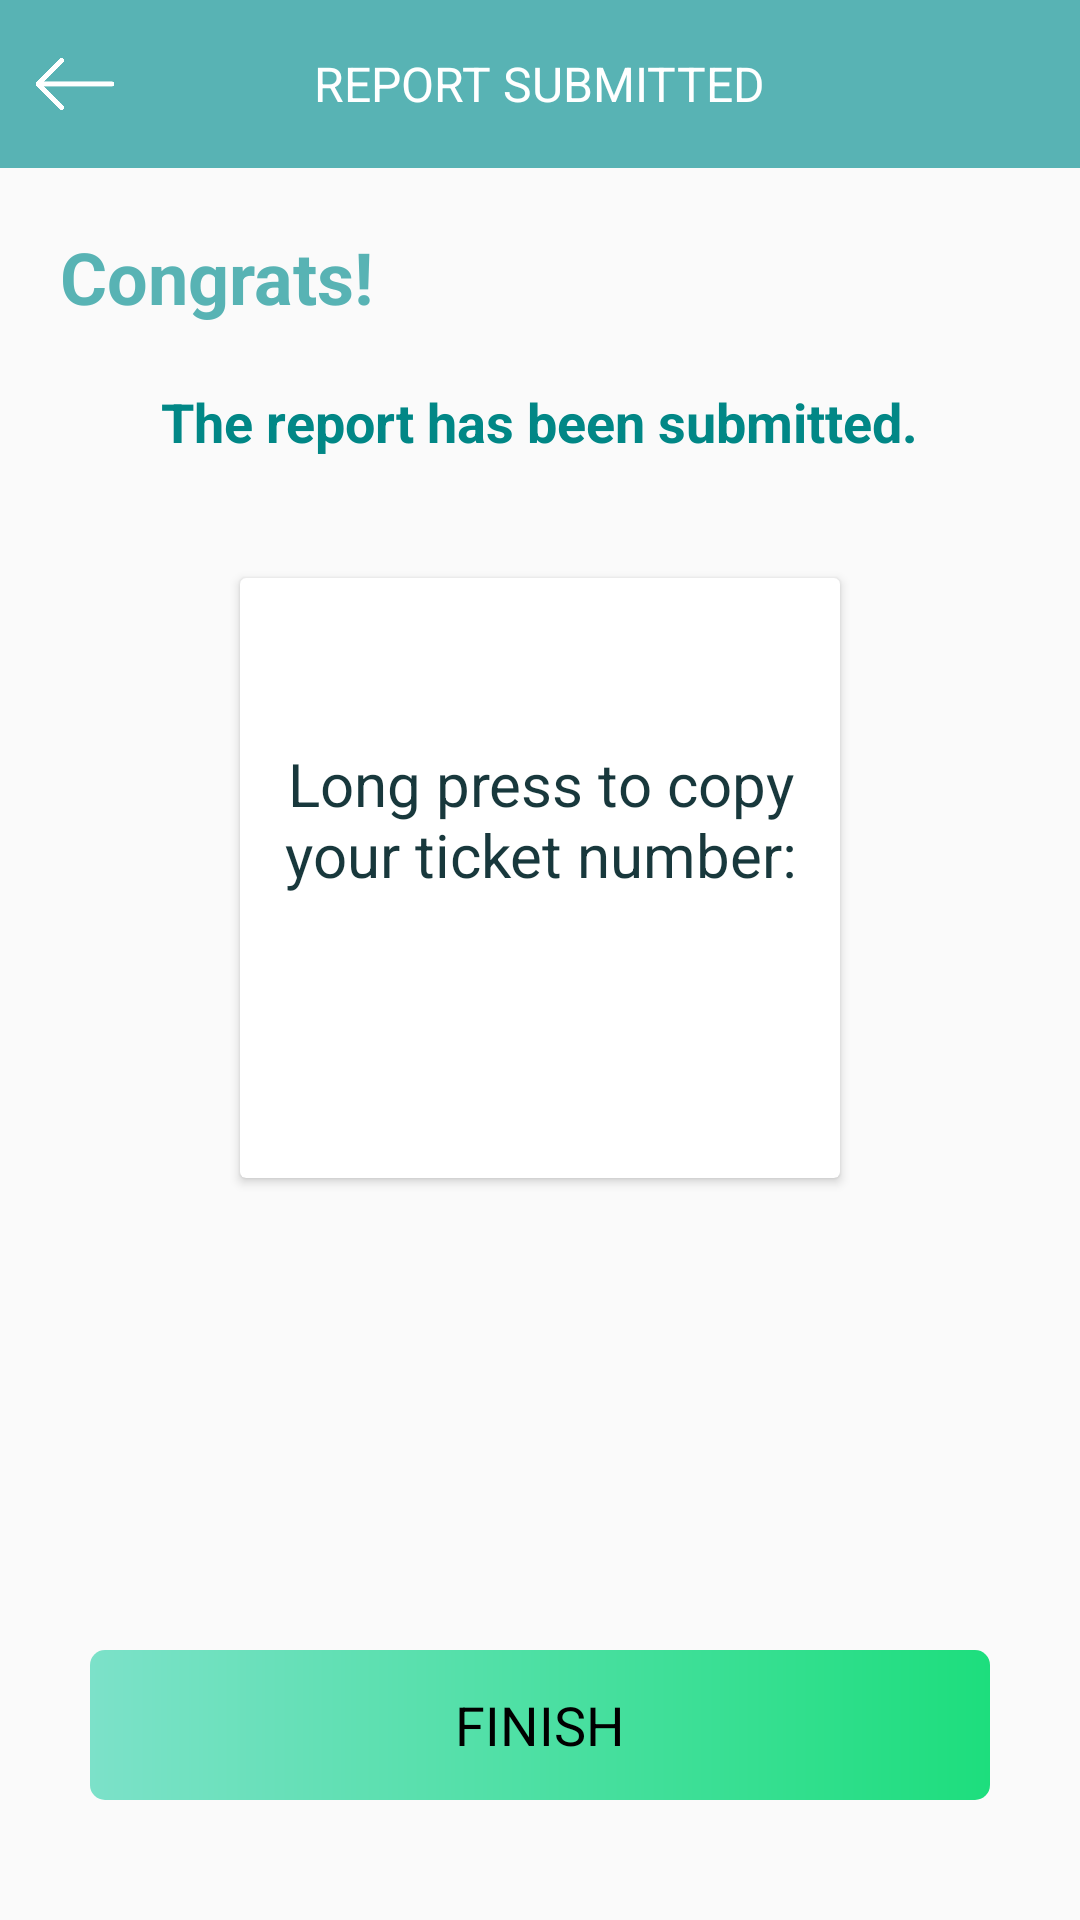

Named icons in this screenshot (1080 x 1920) and their centers, (x=x, y=y):
info bac: (x=75, y=84)
